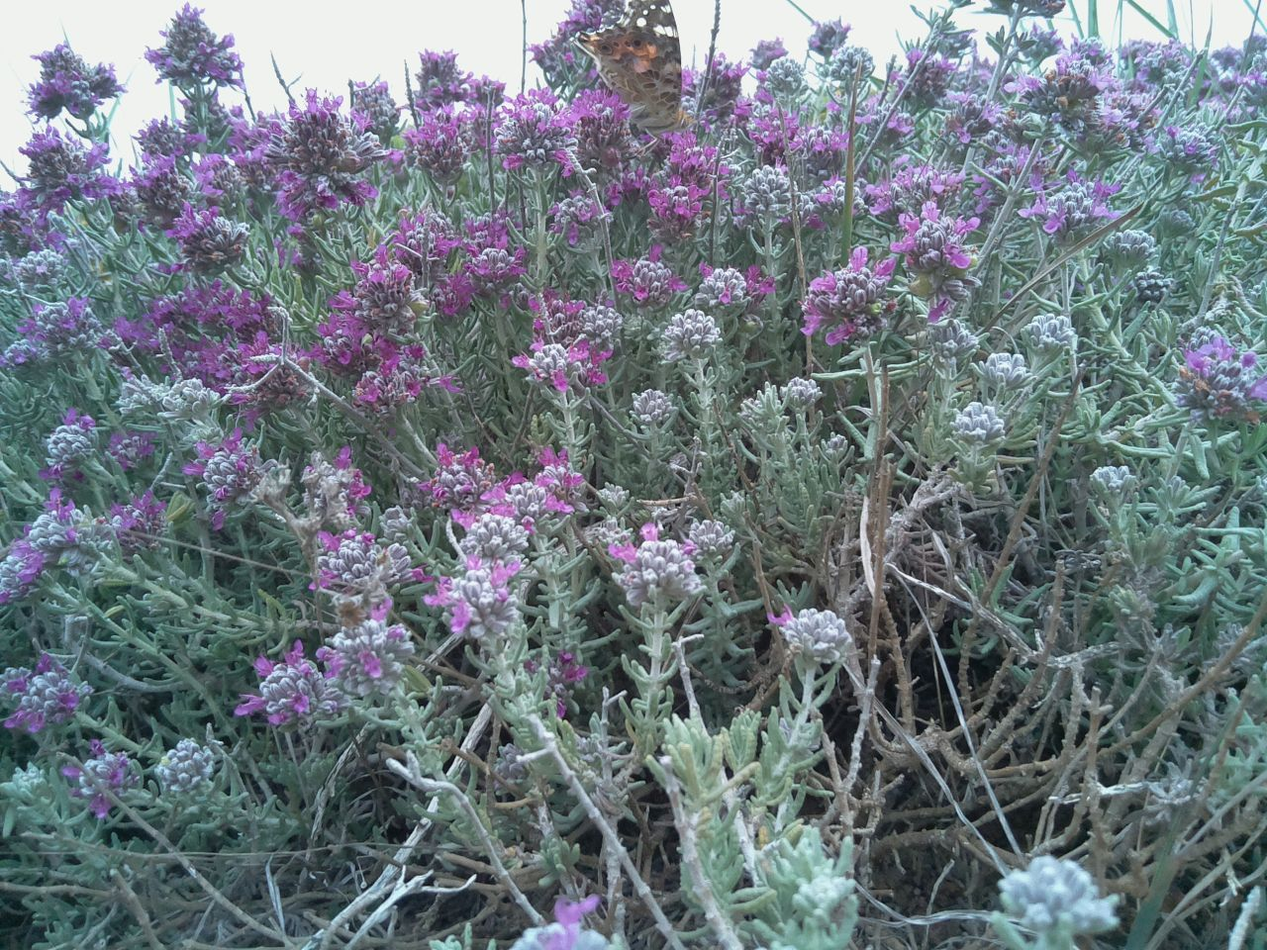Vanessa cardui: (566, 1, 696, 142)
